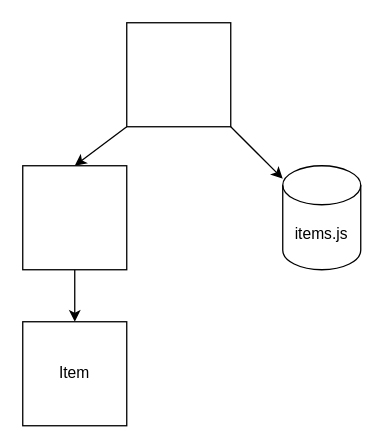
Some shapes in this 384 by 448 pixel diagram are drawn without their labels. The shapes that lost their labels are listed below. From the top down, each one's centre as x and y in pixels, then its label:
At (x=178, y=74): "App".
At (x=74, y=217): "ShoppingList".
